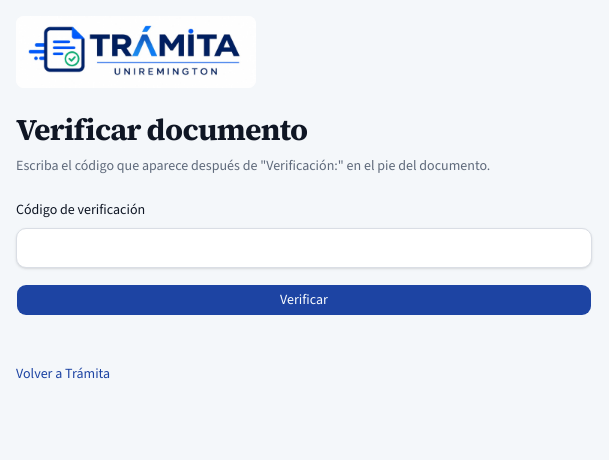
Test: VerifySealPage › con 404 (null) dice que no hay documento emitido, sin palabras de falsedad
The width and height of the screenshot is (609, 460).
Type "ZZZZZZZZZZZZZ" into the field labelled "Código de verificación" at x=304, y=248, box [16,228,592,268]
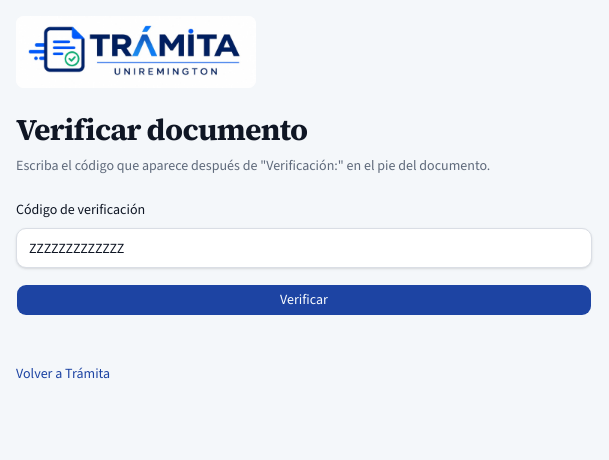
Click the button "Verificar" at x=304, y=300, box [16,284,592,316]
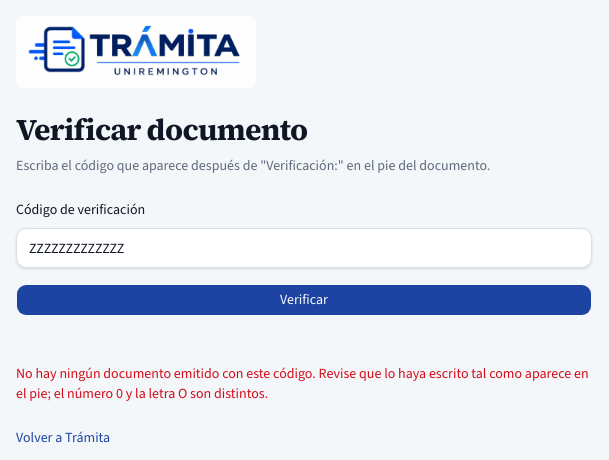
Expected: the text "No hay ningún documento emitido con este código" is shown, [16,364,589,403]
